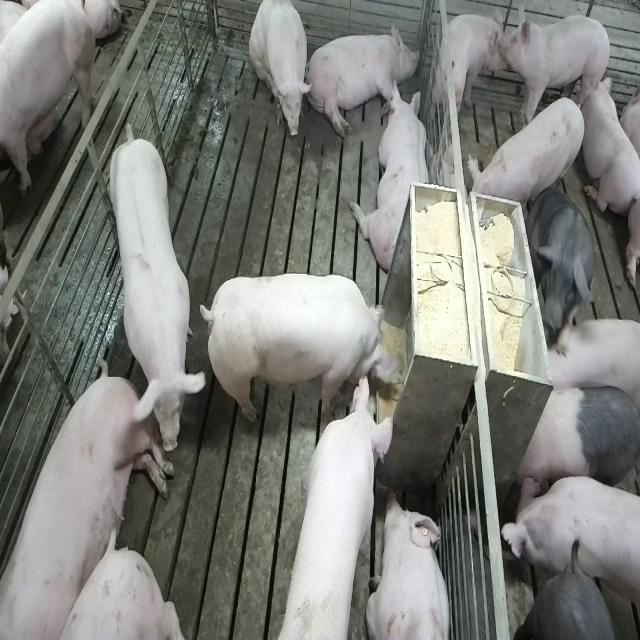Feeding: (277, 366, 394, 632), (200, 279, 382, 432)
Lateral_lying: (306, 20, 419, 140)
Sitting: (249, 0, 312, 142)
Standing: (104, 125, 204, 434), (500, 469, 638, 638), (0, 0, 94, 196), (471, 96, 589, 220), (498, 13, 614, 136), (515, 385, 638, 500), (547, 312, 640, 449), (516, 532, 620, 638), (532, 181, 598, 333), (435, 12, 507, 130)
Sternal_lying: (353, 79, 432, 274), (368, 493, 455, 640), (582, 70, 638, 220)
